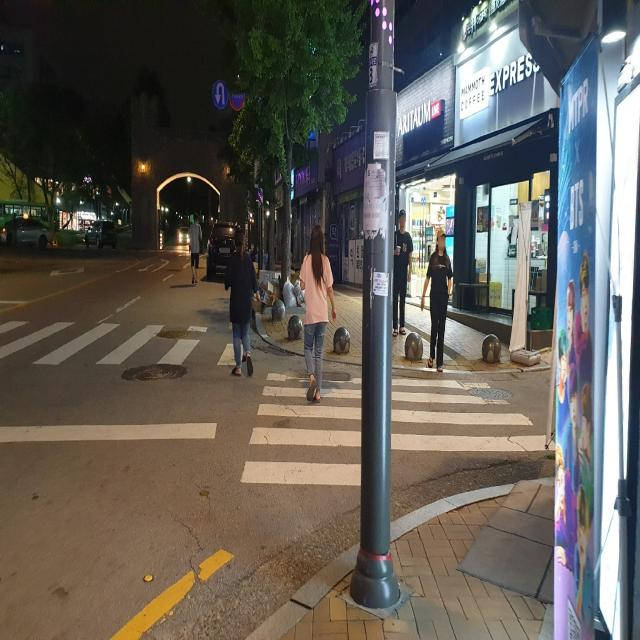횡단보도: (239, 369, 557, 489), (0, 311, 244, 376)
